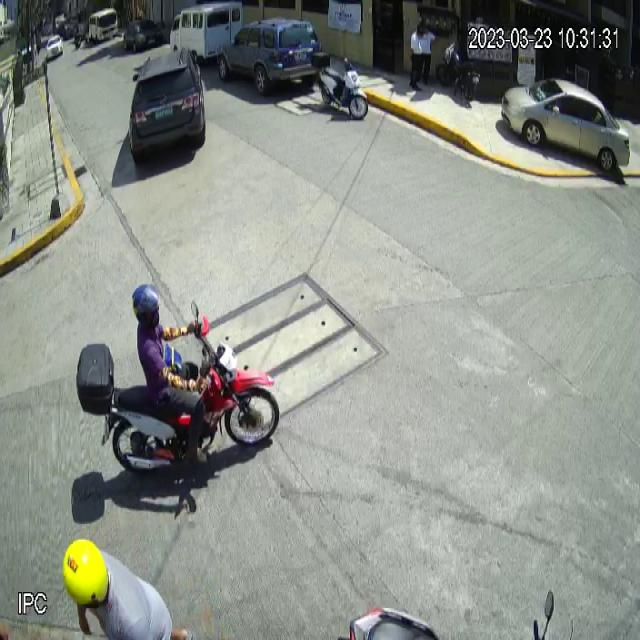Car: (500, 80, 630, 172), (128, 47, 206, 167), (217, 18, 323, 96)
Motorcycle: (76, 299, 280, 475), (310, 50, 369, 119)
Van: (170, 3, 242, 68)
